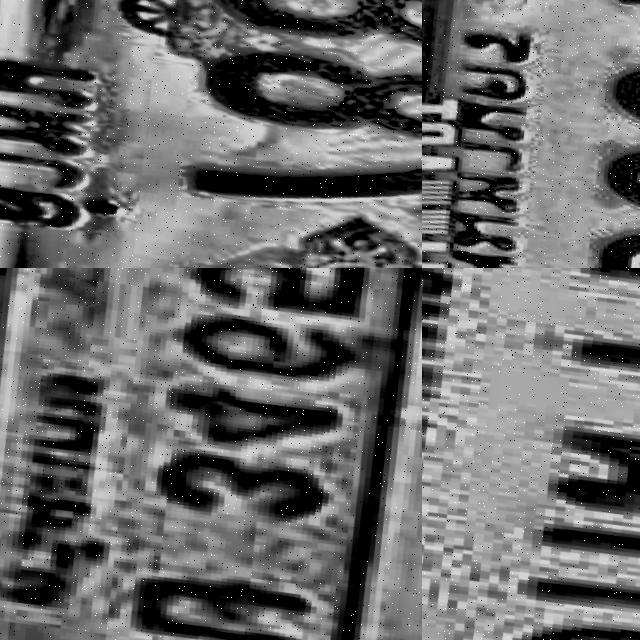license-plate: (0, 268, 422, 640), (0, 0, 422, 268), (422, 268, 640, 640), (422, 0, 640, 268)
